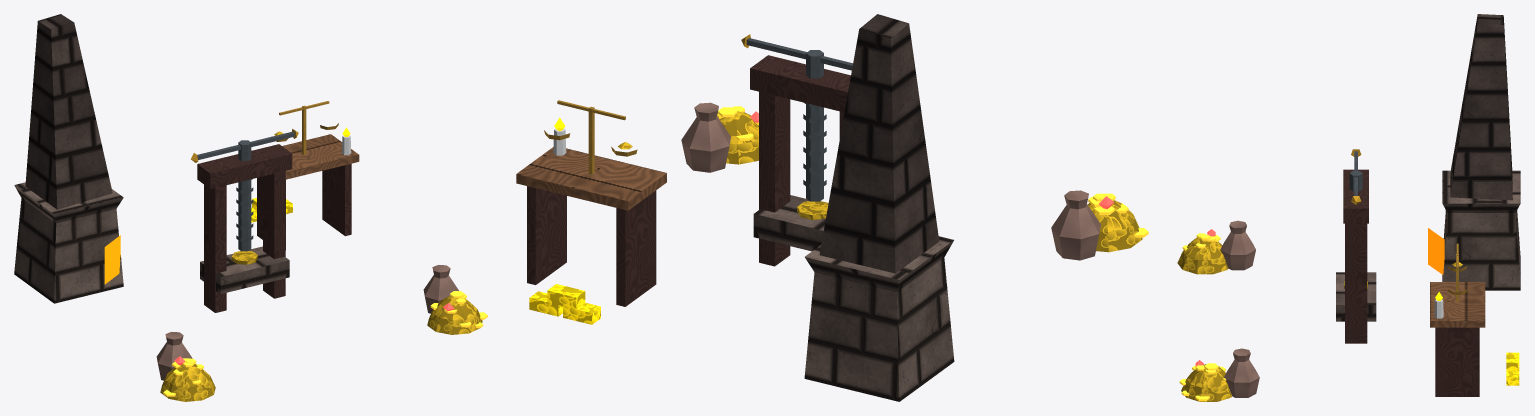
Rendered from mint.glb.
The picture shows the model from 3 angles, left to right: view 1: azimuth 30°, elevation 25°; view 2: azimuth 150°, elevation 25°; view 3: azimuth 270°, elevation 25°; orthographic projection. The views are drawn at different scales.
Visible parts, largest first — view 1: base_mesh; view 2: base_mesh; view 3: base_mesh.
Part boxes in pixels (box(x1,y1,x2,y2)): base_mesh: box(14, 14, 487, 401); base_mesh: box(516, 14, 1148, 401); base_mesh: box(1177, 14, 1520, 401).
Bounding box in the file's own units: 1.97 × 1.51 × 1.86.
18 materials, 9 textured.
